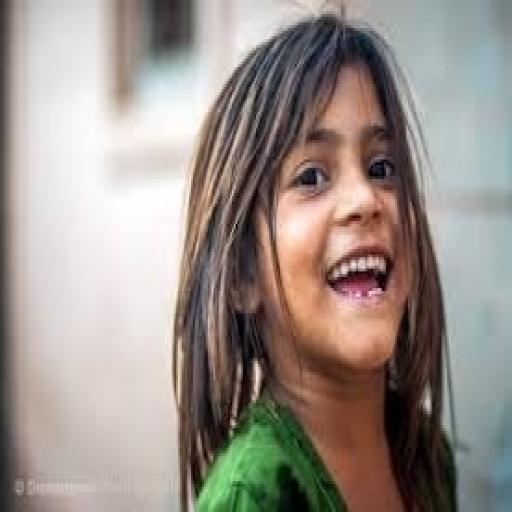laughing: (167, 3, 466, 509)
